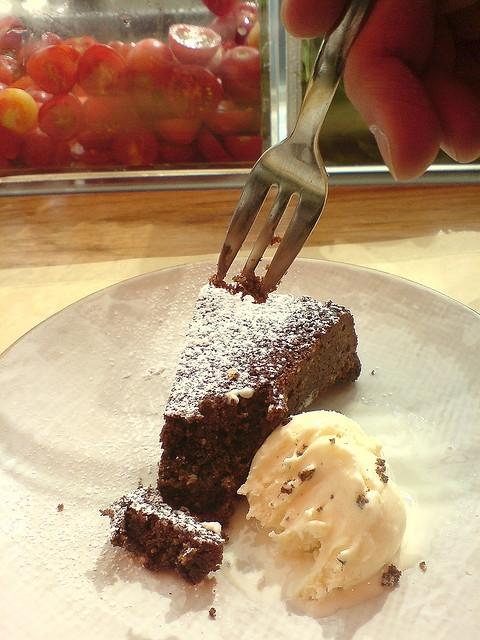tomato: (165, 64, 222, 121), (26, 44, 82, 96), (82, 92, 140, 138), (77, 44, 128, 96), (0, 89, 37, 160), (204, 92, 262, 136), (124, 38, 174, 88), (130, 80, 180, 128), (168, 23, 222, 67), (38, 92, 84, 142), (208, 1, 258, 46), (112, 130, 160, 166), (221, 70, 262, 108), (20, 128, 58, 168), (153, 118, 204, 146), (197, 125, 235, 162), (24, 31, 64, 66), (68, 136, 116, 164), (225, 136, 262, 162), (158, 138, 196, 162), (0, 15, 22, 54), (24, 84, 55, 110), (60, 36, 98, 55), (0, 54, 23, 85), (121, 42, 136, 59)
